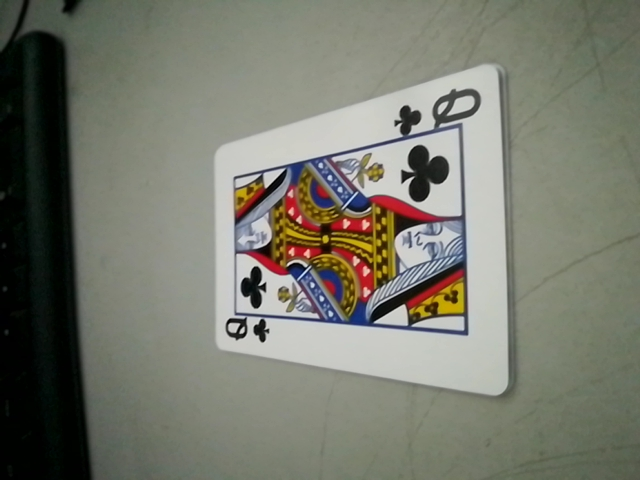mh q: (392, 85, 489, 139), (219, 308, 275, 353)
